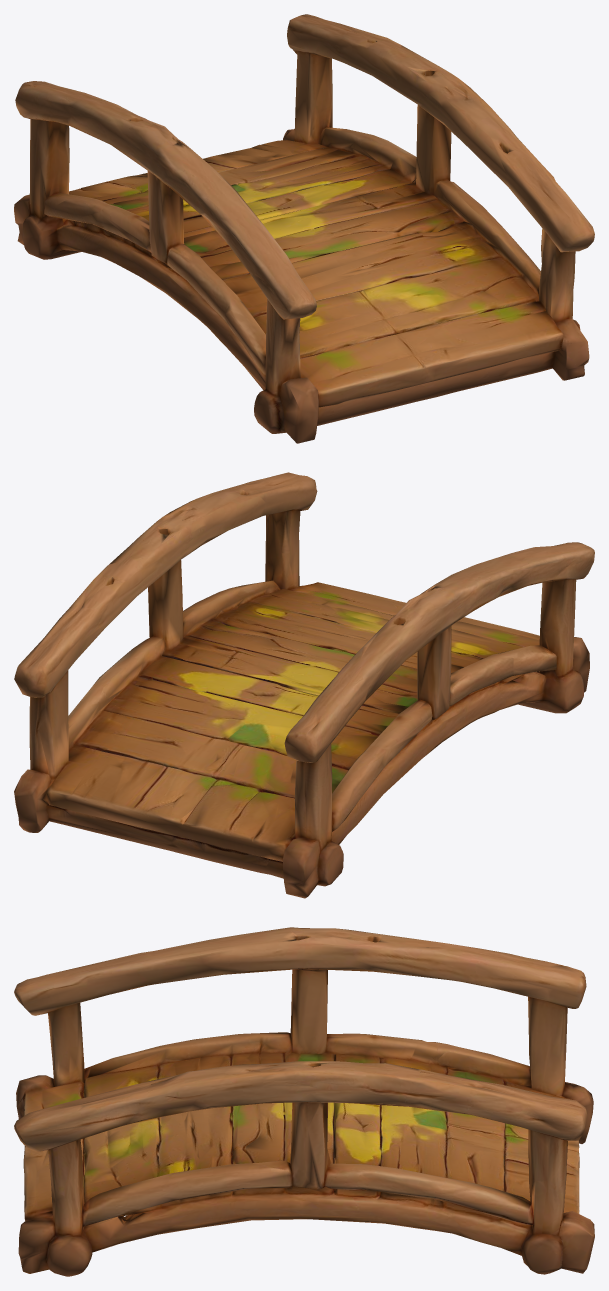
File: prop_bridge.glb
The picture shows the model from 3 angles, top to bottom: view 1: azimuth 30°, elevation 25°; view 2: azimuth 150°, elevation 25°; view 3: azimuth 270°, elevation 25°; orthographic projection.
Parts seen in each view (by area): view 1: tripo_node_a8df6b38-57ec-4695-ad4e-93e9ef671878; view 2: tripo_node_a8df6b38-57ec-4695-ad4e-93e9ef671878; view 3: tripo_node_a8df6b38-57ec-4695-ad4e-93e9ef671878.
Part boxes in pixels (<box>): tripo_node_a8df6b38-57ec-4695-ad4e-93e9ef671878: <box>14,14,594,443</box>; tripo_node_a8df6b38-57ec-4695-ad4e-93e9ef671878: <box>14,472,594,898</box>; tripo_node_a8df6b38-57ec-4695-ad4e-93e9ef671878: <box>14,927,594,1276</box>.
Bounding box in the file's own units: 0.6278 × 0.3952 × 1.
Materials: 1 (1 with a texture image).
